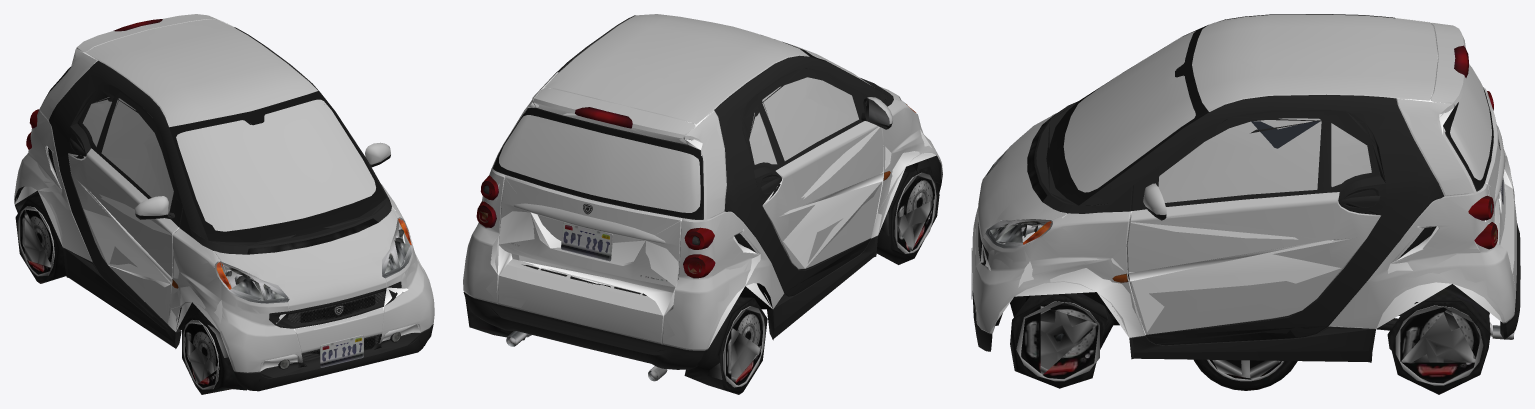
The model's file is compact.glb.
3 views of the same model, side by side, from view 1: azimuth 30°, elevation 25°; view 2: azimuth 150°, elevation 25°; view 3: azimuth 270°, elevation 25° (orthographic). The views are drawn at different scales.
Parts seen in each view (by area): view 1: paint0, kit0, far, glass0, paint1, glass1, kit1; view 2: paint0, far, kit0, glass0, paint1, kit1, glass1; view 3: paint0, far, kit0, glass0, paint1, kit1, glass1, wheel0, wheel1.
Boxes of the visible parts, x1,y1,x2,y2 form: paint0: (14, 14, 434, 372); kit0: (14, 19, 433, 391); far: (15, 19, 426, 394); glass0: (63, 68, 375, 231); paint1: (14, 14, 434, 372); glass1: (83, 97, 372, 231); kit1: (15, 84, 420, 385); paint0: (463, 14, 942, 350); far: (465, 70, 941, 394); kit0: (463, 15, 942, 381); glass0: (499, 36, 870, 212); paint1: (463, 18, 942, 349); kit1: (480, 68, 941, 380); glass1: (499, 52, 858, 212); paint0: (972, 14, 1516, 338); far: (975, 18, 1519, 394); kit0: (971, 14, 1520, 362); glass0: (1063, 31, 1491, 193); paint1: (973, 15, 1516, 337); kit1: (975, 101, 1520, 359); glass1: (1064, 31, 1491, 202); wheel0: (1194, 359, 1297, 390); wheel1: (1208, 359, 1283, 381).
Bounding box in the file's own units: 1.74 × 1.81 × 2.69.
1 material, 1 textured.
